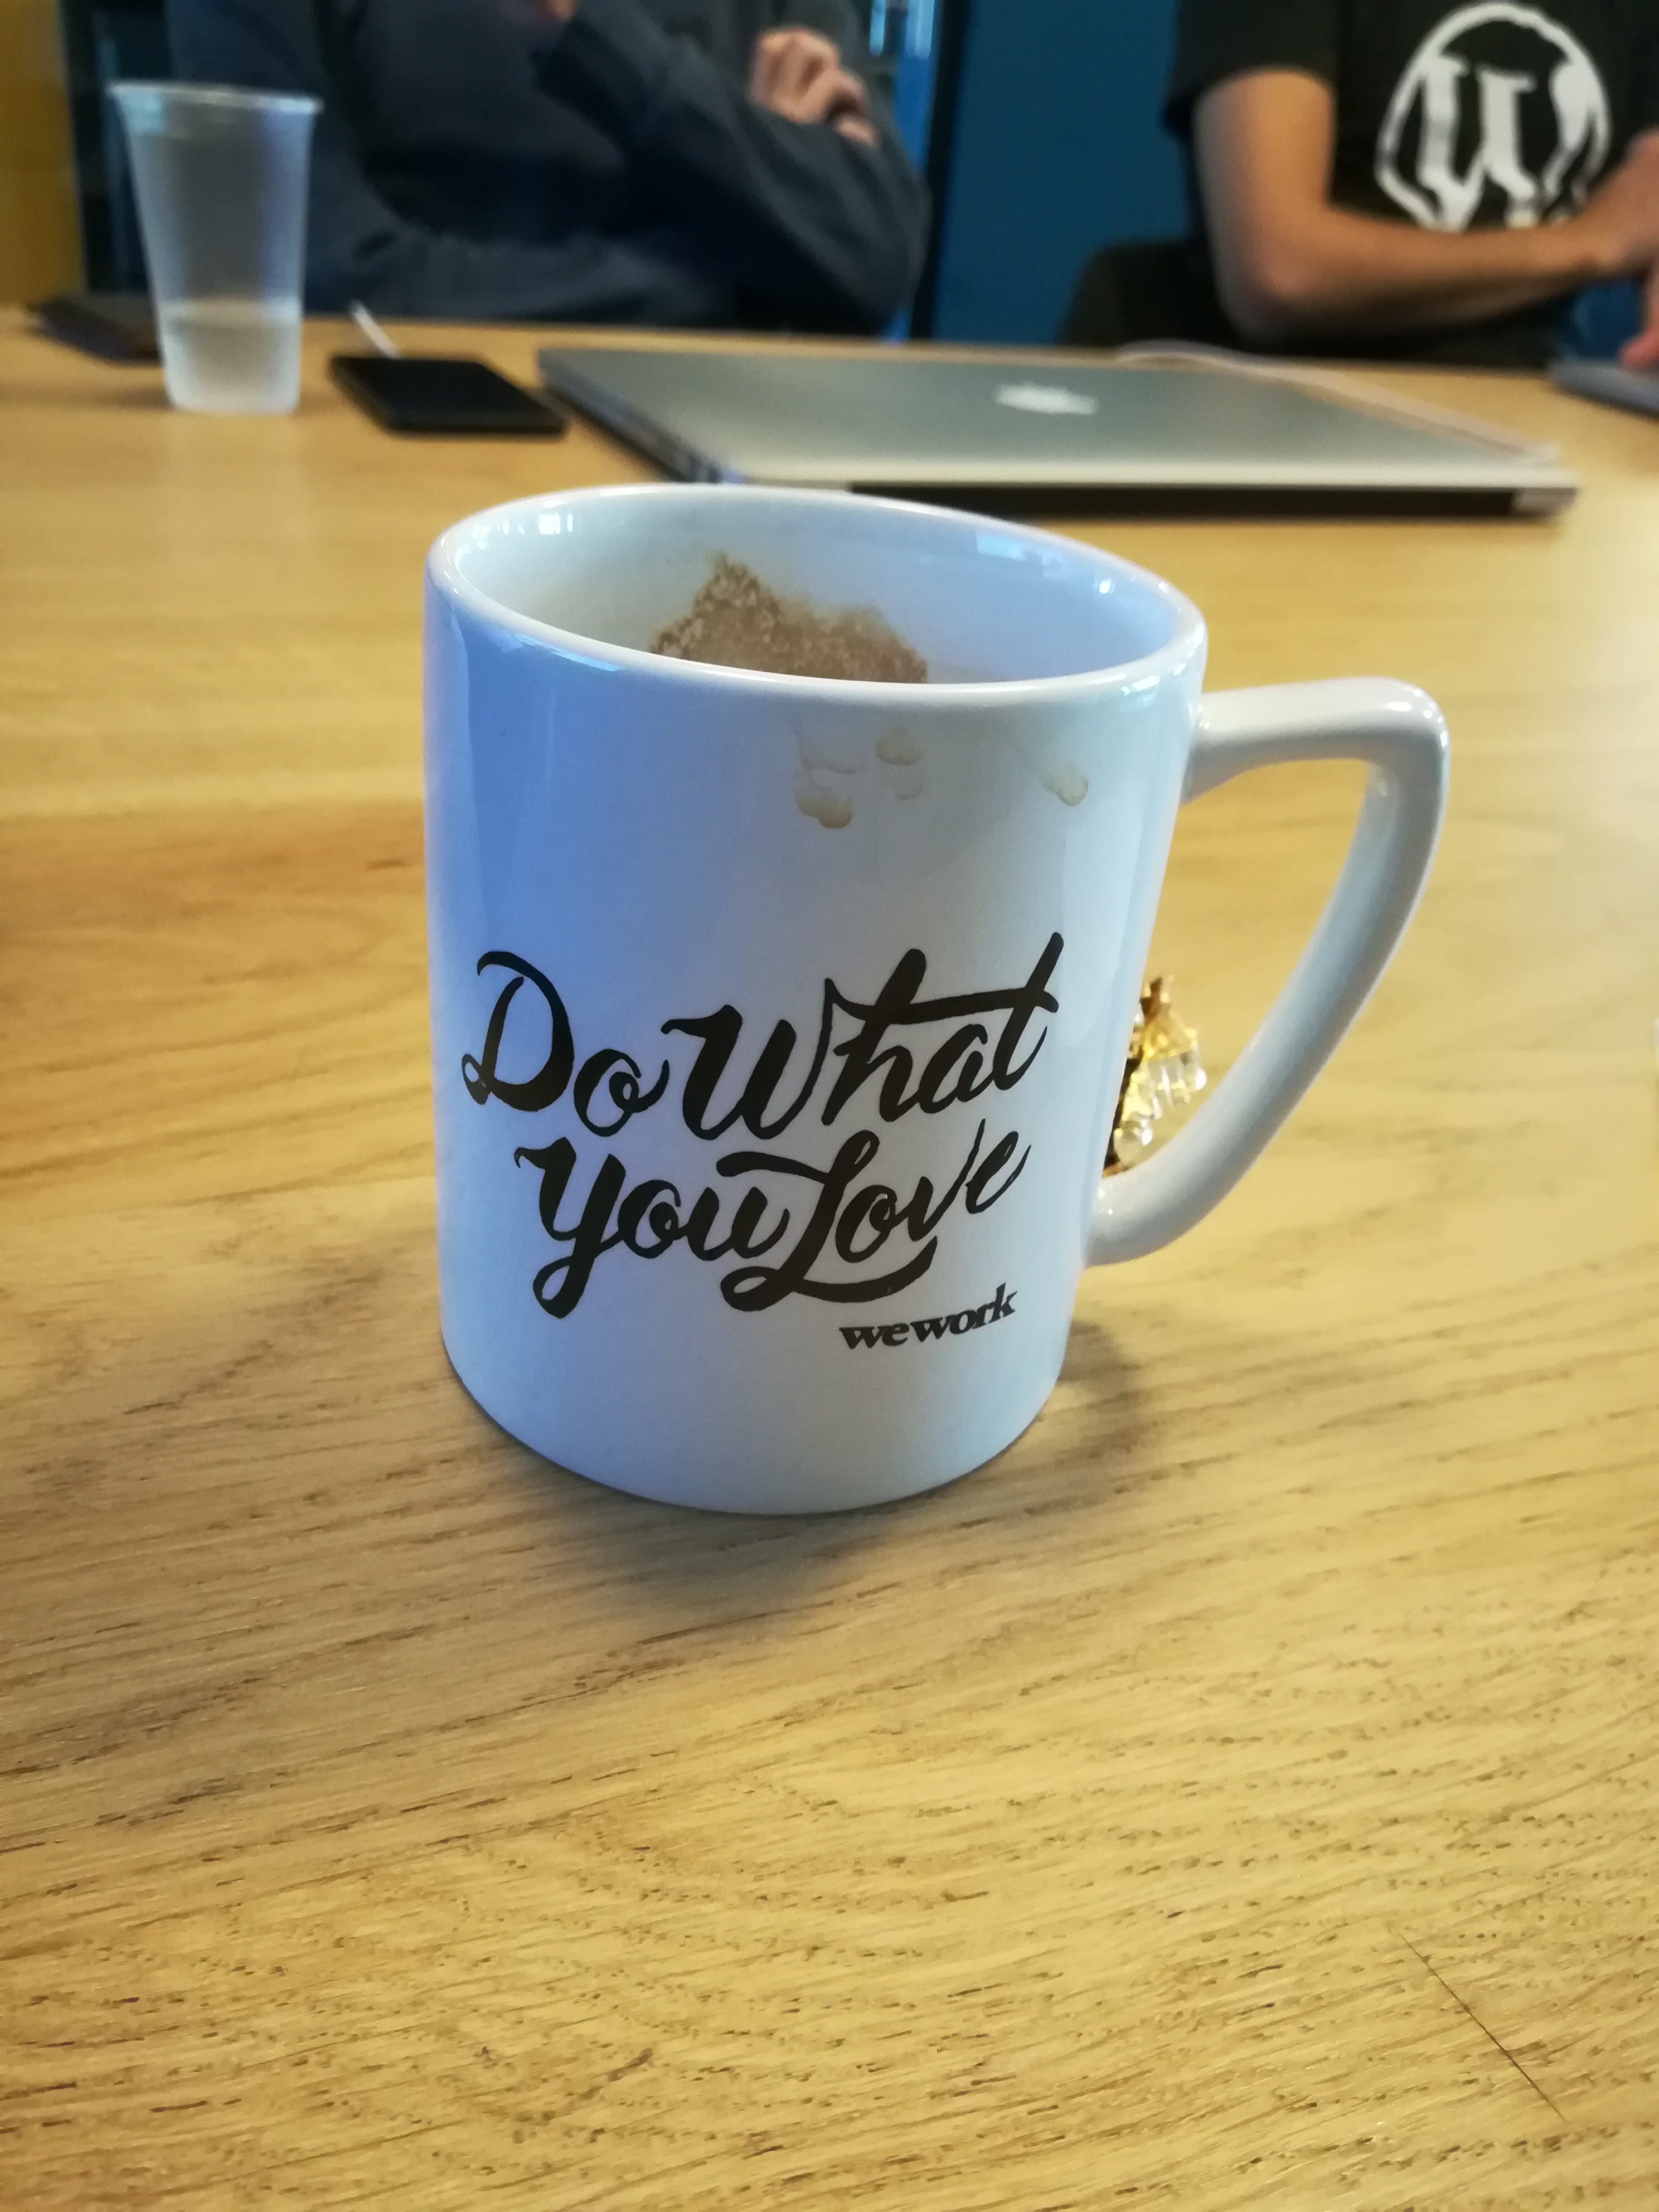wework: (836, 1280, 1019, 1352)
